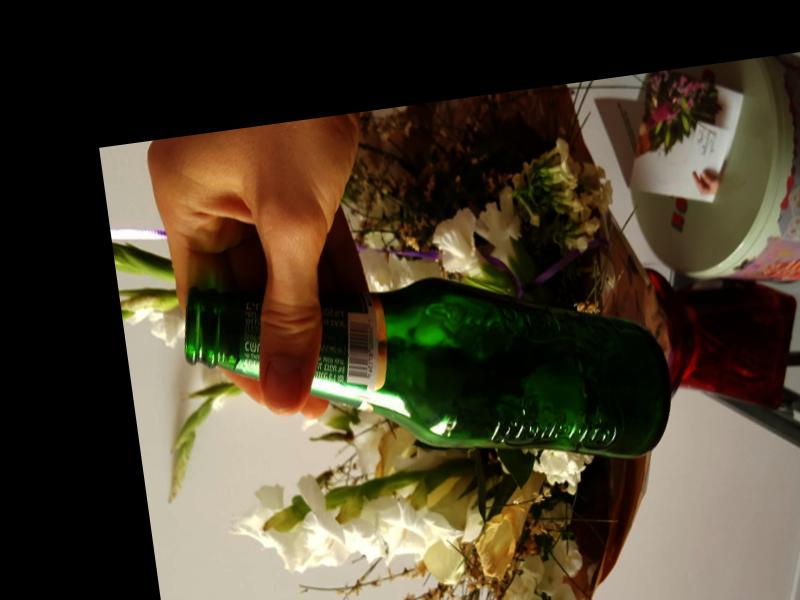Beer: (179, 247, 679, 515)
